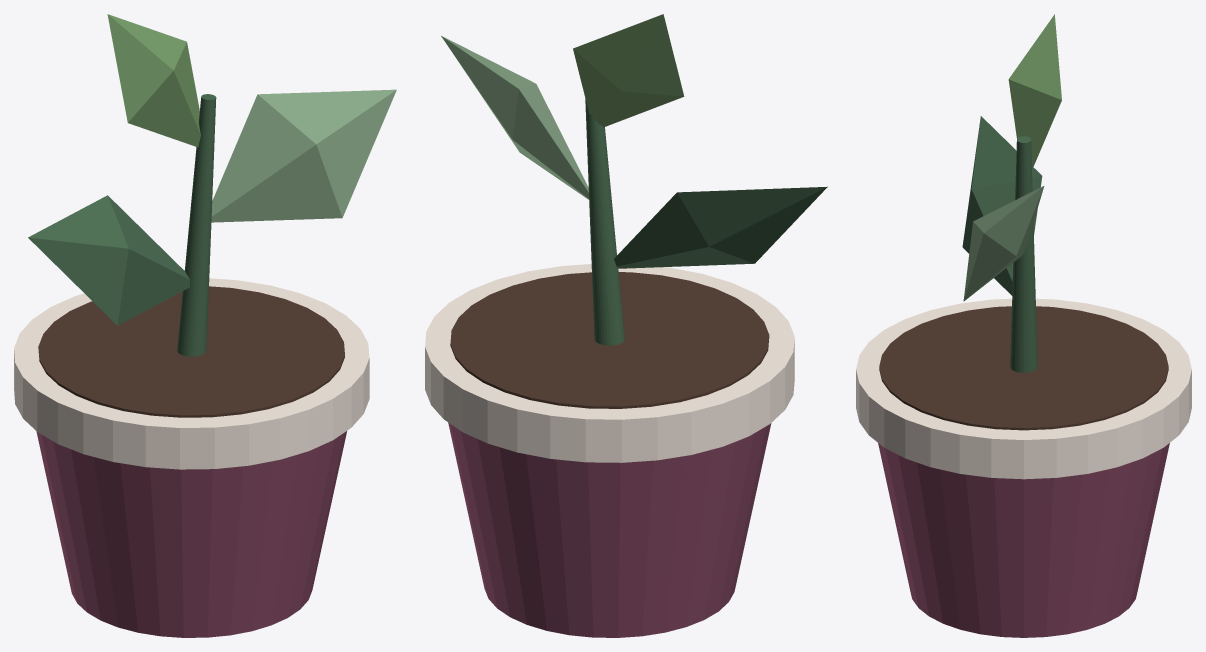
The model's file is pot.glb.
3 renders of one model, left to right at view 1: azimuth 30°, elevation 25°; view 2: azimuth 150°, elevation 25°; view 3: azimuth 270°, elevation 25°, orthographic. The views are drawn at different scales.
Parts seen in each view (by area): view 1: ceramic pot, soil, rim, leaf 2, leaf 1, leaf 3, stem; view 2: ceramic pot, soil, rim, leaf 1, leaf 3, leaf 2, stem; view 3: ceramic pot, soil, rim, leaf 3, leaf 2, leaf 1, stem.
Boxes of the visible parts, x1,y1,x2,y2 form: ceramic pot: (36,431,346,637); soil: (38,286,344,417); rim: (14,278,369,469); leaf 2: (211,89,396,222); leaf 1: (28,195,190,325); leaf 3: (107,14,200,147); stem: (177,94,216,356); ceramic pot: (448,422,771,637); soil: (450,272,769,408); rim: (425,264,794,462); leaf 1: (614,186,827,268); leaf 3: (573,14,684,127); leaf 2: (441,36,589,199); stem: (585,99,624,345); ceramic pot: (878,443,1169,637); soil: (879,306,1168,430); rim: (856,298,1191,479); leaf 3: (1008,14,1061,169); leaf 2: (963,186,1044,301); leaf 1: (962,116,1042,295); stem: (1010,136,1037,372).
Size of the model in its own units: 1.31 by 1.95 by 1.09.
